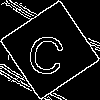C: (25, 25, 69, 77)
